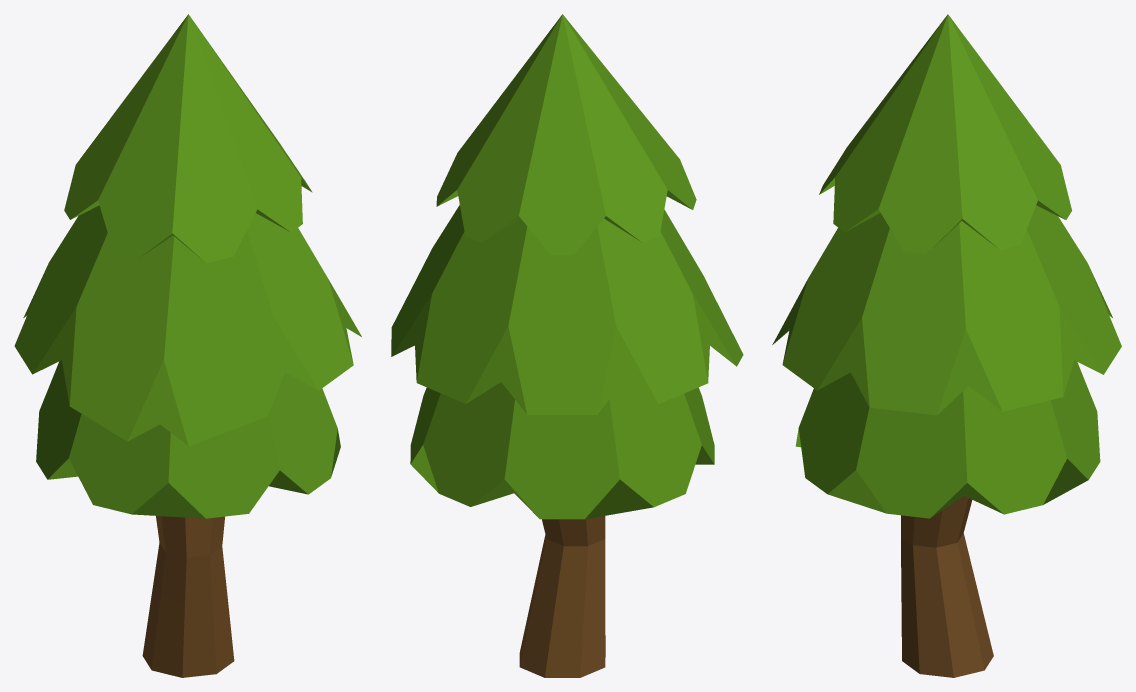
The model's file is tree-1.fbx.
3 views of the same model, side by side, from view 1: azimuth 30°, elevation 25°; view 2: azimuth 150°, elevation 25°; view 3: azimuth 270°, elevation 25° (orthographic).
Visible parts, largest first — view 1: tree2.011; view 2: tree2.011; view 3: tree2.011.
Part boxes in pixels (bbox=[...]): tree2.011: bbox=[14, 14, 361, 677]; tree2.011: bbox=[391, 14, 743, 677]; tree2.011: bbox=[772, 14, 1121, 677].
Size of the model in its own units: 274 by 559 by 275.
